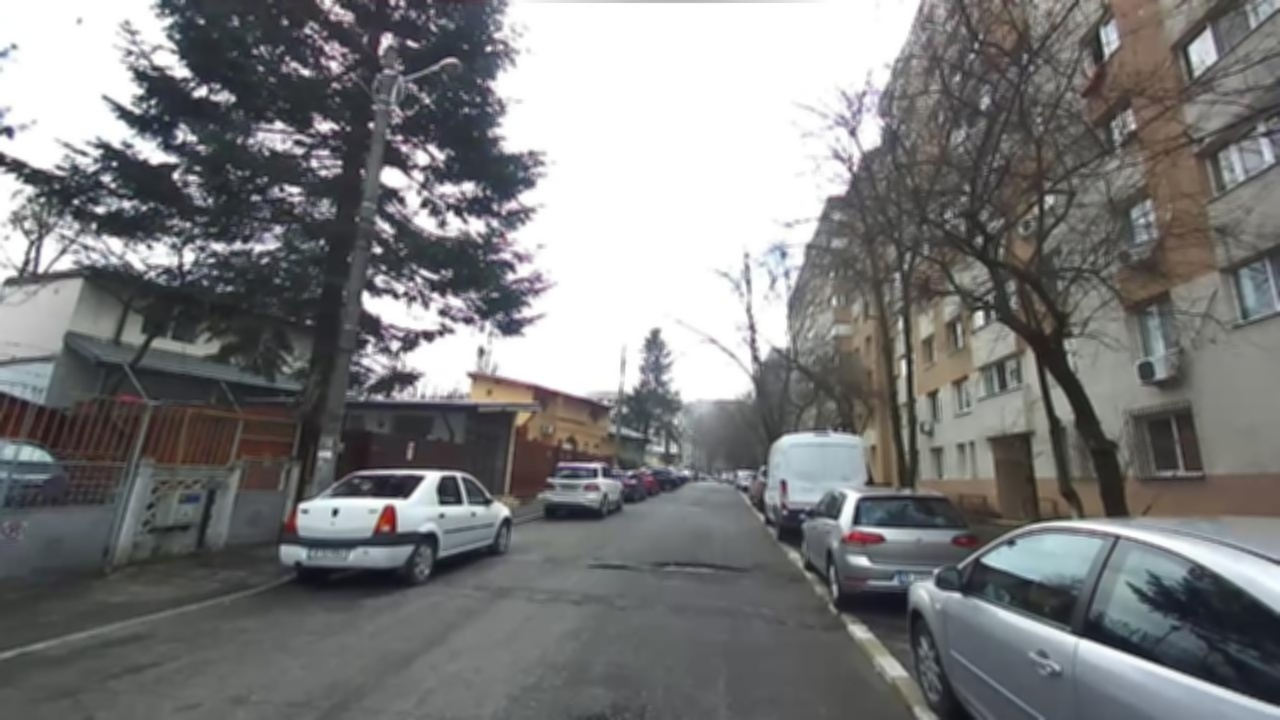pothole: (646, 556, 750, 578), (571, 699, 651, 719), (585, 558, 641, 576)
